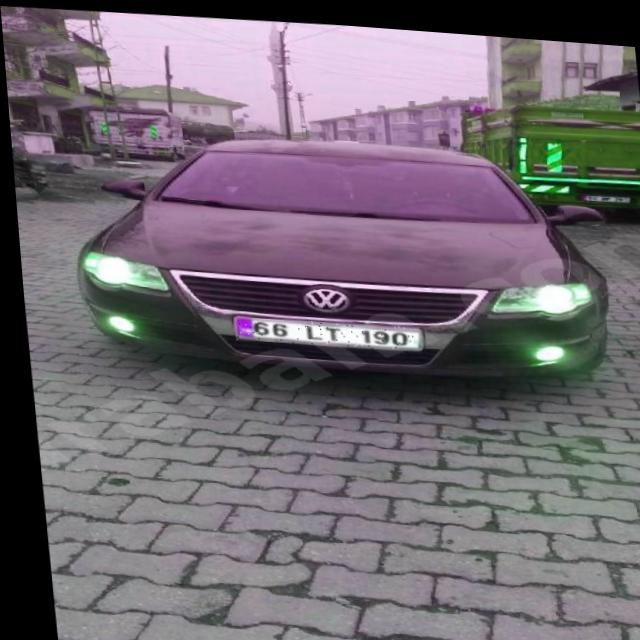license_plate: (228, 310, 416, 347)
